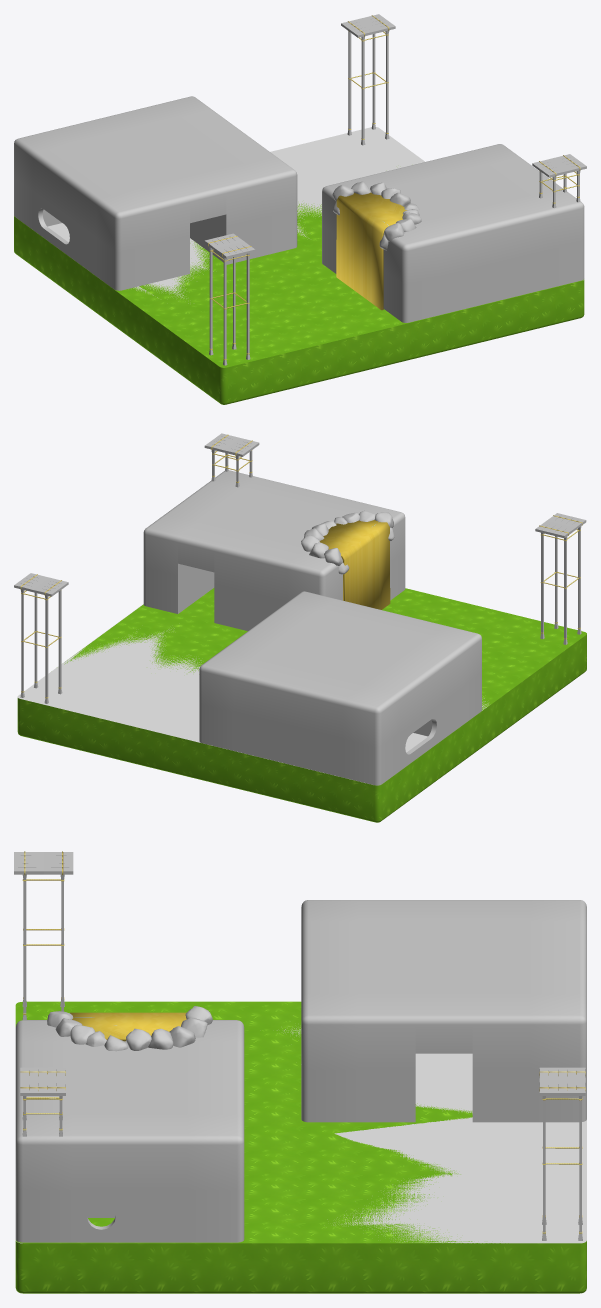
The model's file is Level 4.fbx.
3 renders of one model, top to bottom at view 1: azimuth 30°, elevation 25°; view 2: azimuth 150°, elevation 25°; view 3: azimuth 270°, elevation 25°, orthographic. The views are drawn at different scales.
Parts seen in each view (by area): view 1: Cave Closed End.033, Decal.001; view 2: Cave Closed End.033, Decal.001; view 3: Cave Closed End.033, Decal.001.
Boxes of the visible parts, box(x1,y1,x2,y2) form: Cave Closed End.033: box(14, 14, 586, 404); Decal.001: box(48, 127, 584, 303); Cave Closed End.033: box(14, 433, 586, 822); Decal.001: box(17, 604, 488, 783); Cave Closed End.033: box(14, 851, 586, 1293); Decal.001: box(16, 1027, 586, 1243).
Size of the model in its own units: 2013 by 789 by 2006.
